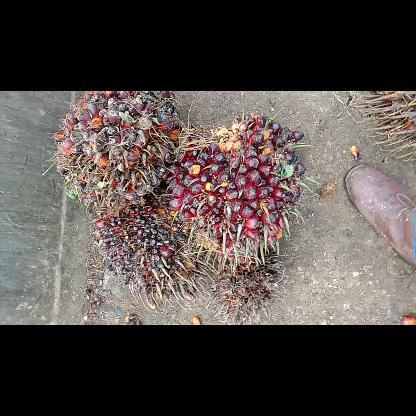TBS abnormal: (89, 184, 220, 310), (209, 246, 287, 322)
TBS masak: (166, 110, 308, 278), (51, 90, 186, 222)
